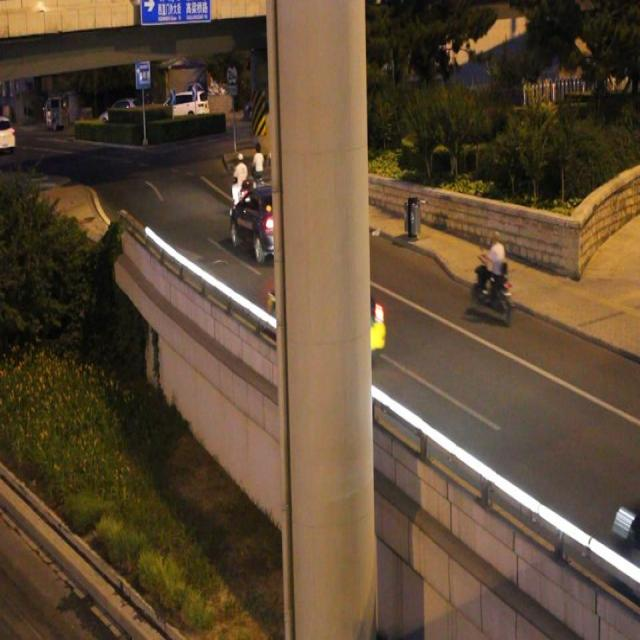car: (268, 255, 385, 361), (228, 180, 300, 264), (612, 492, 640, 570)
